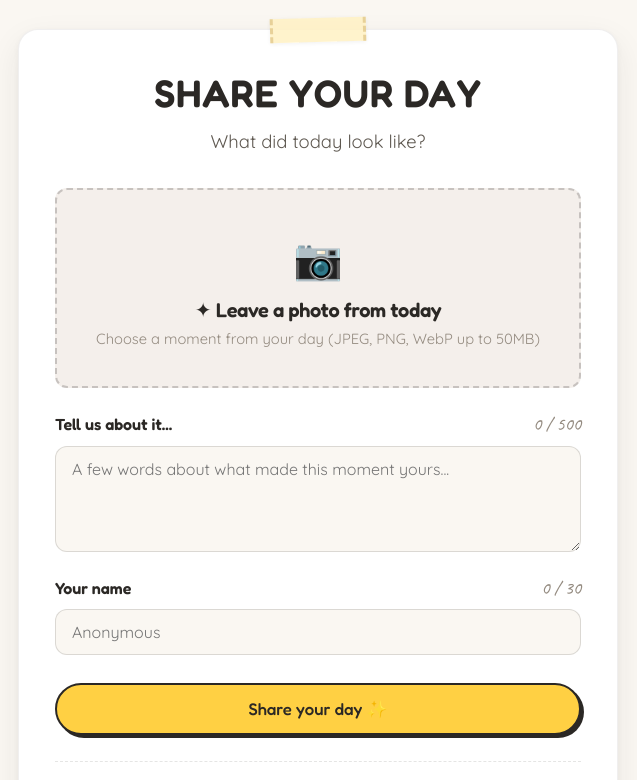
it: ShareDayPage › updates text counter as user types
Type "Hello world reflection" into the text box with placeholder "A few words about what made this moment yours..." at (318, 499), box [55, 446, 581, 552]
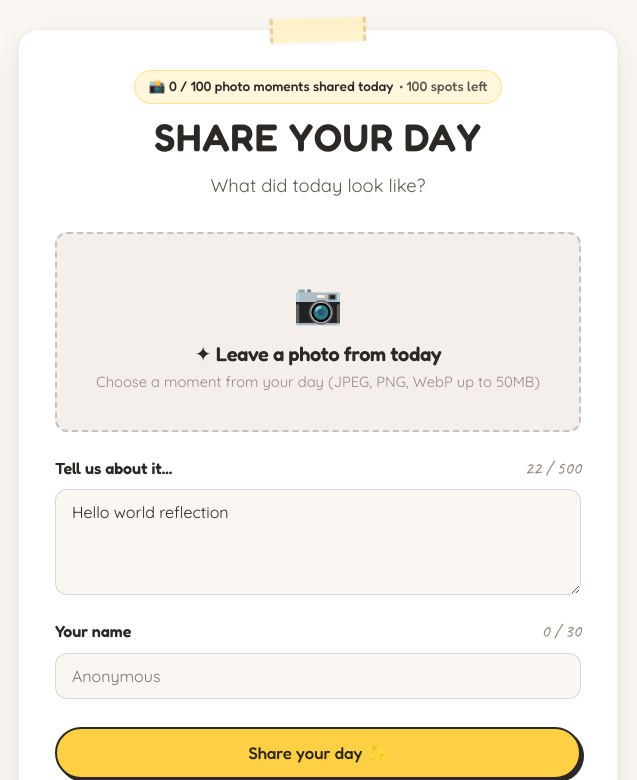
Check: the text "22 / 500" is shown, box [525, 454, 581, 483]
